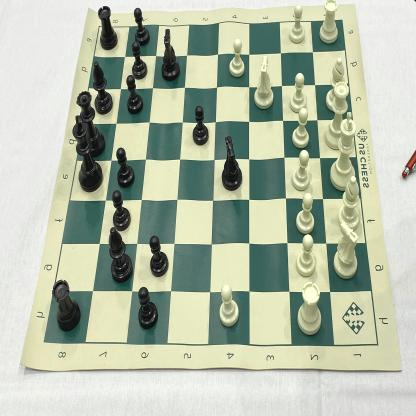black-bishop: (51, 279, 81, 331), (109, 228, 133, 282), (94, 61, 113, 115), (98, 5, 118, 50)
black-king: (73, 114, 103, 193)
black-knight: (220, 135, 242, 191), (161, 27, 180, 82)
black-pawn: (148, 234, 169, 278), (137, 286, 158, 330), (110, 191, 132, 232), (115, 145, 134, 189), (125, 74, 143, 115), (192, 104, 210, 144), (130, 41, 147, 80), (134, 6, 150, 44)
black-queen: (76, 90, 104, 158)
white-bishop: (337, 176, 361, 232), (325, 57, 346, 112)
white-king: (329, 112, 357, 192)
white-knight: (332, 222, 361, 279), (254, 54, 274, 109)
white-pawn: (295, 235, 319, 278), (290, 149, 314, 191), (295, 193, 318, 236), (219, 286, 240, 330), (291, 108, 311, 149), (289, 72, 308, 113), (288, 3, 306, 46), (228, 38, 246, 78)
white-queen: (324, 80, 350, 151)
white-rook: (297, 282, 322, 336), (319, 0, 339, 43)
